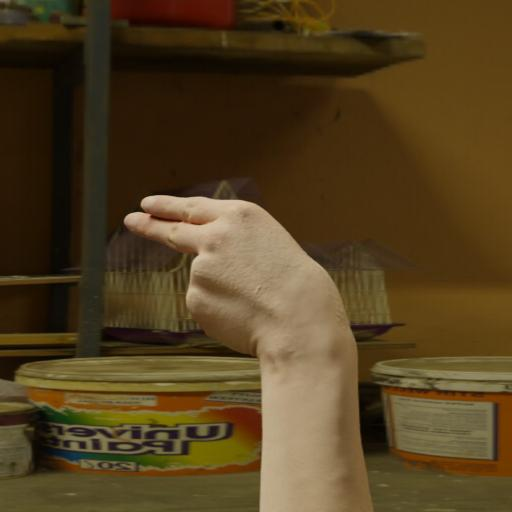H: (109, 173, 377, 385)
